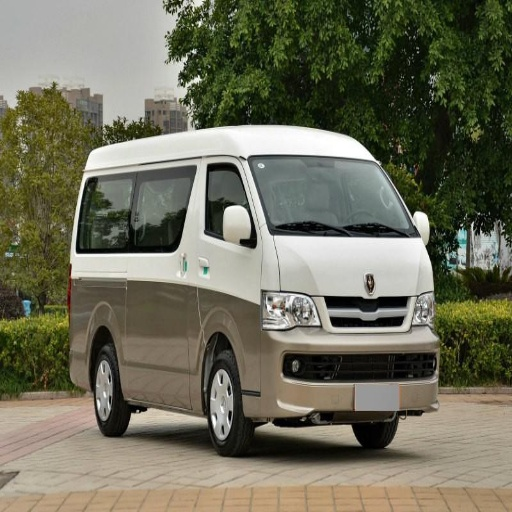front_bumper: (241, 294, 439, 424)
front_right_door: (196, 157, 261, 285)
front_right_light: (262, 292, 320, 330)
hood: (278, 236, 429, 298)
trunk: (69, 255, 212, 379)
